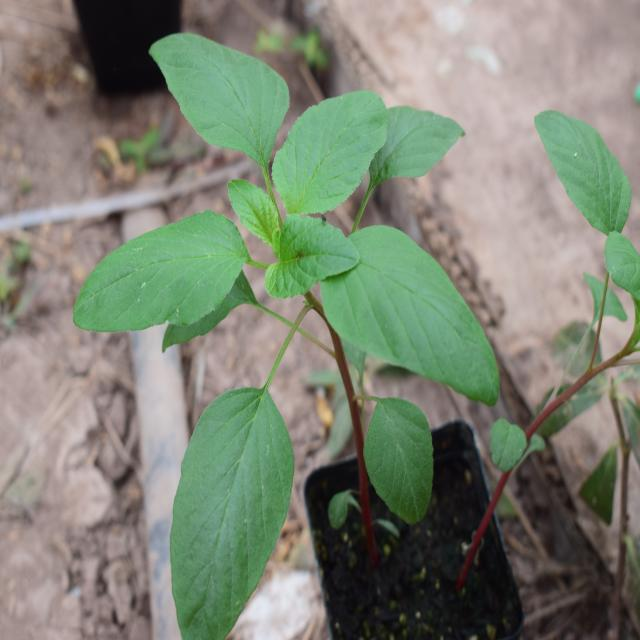pigweed: (90, 32, 487, 542)
